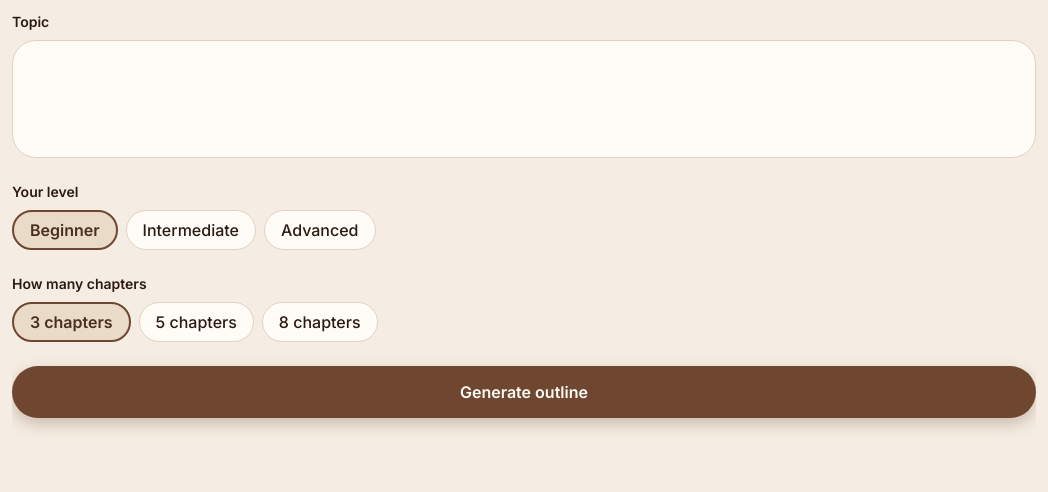
Test case: NewModuleForm › shows a generic error when the request itself throws
Type "Stoicism" into the text box labelled "Topic" at (524, 99), box [12,40,1036,158]
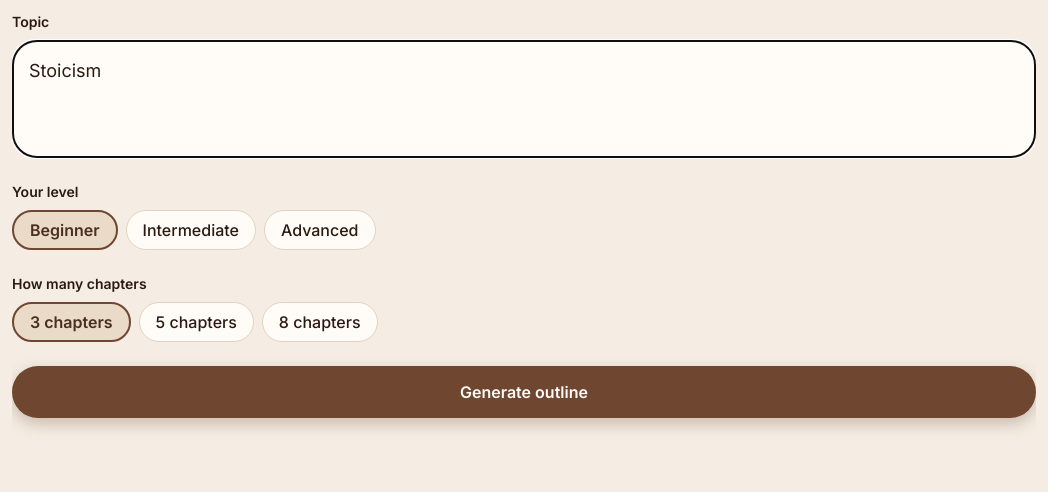
Click the button "Generate outline" at (524, 392), box [12,366,1036,418]
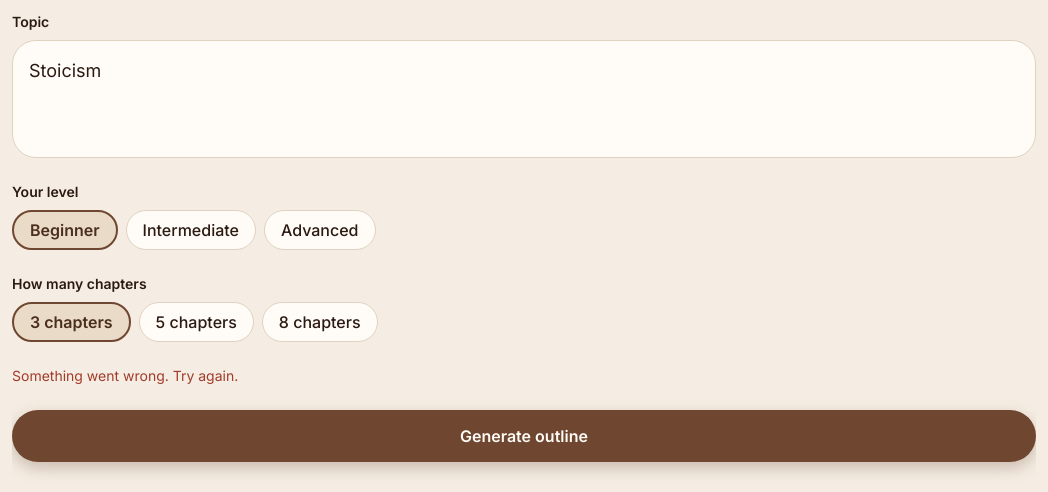
Expected: the message shows "Something went wrong", [12,367,238,384]
